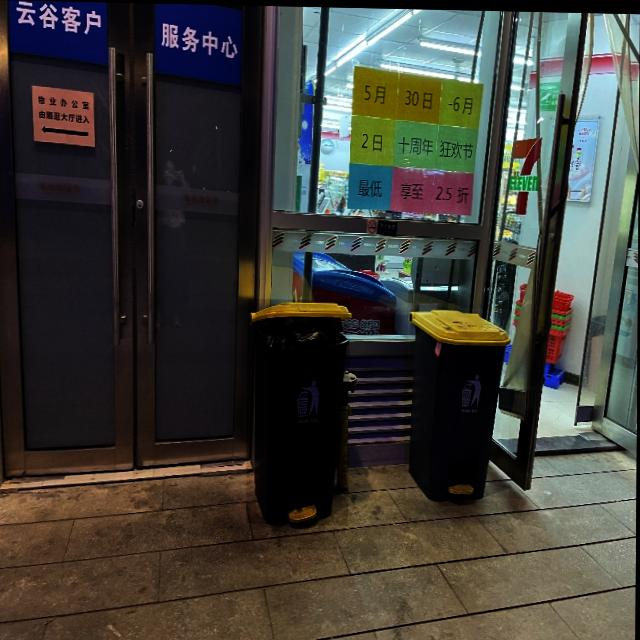garbage_bin: (408, 305, 511, 499)
overflow: (247, 297, 351, 524)
